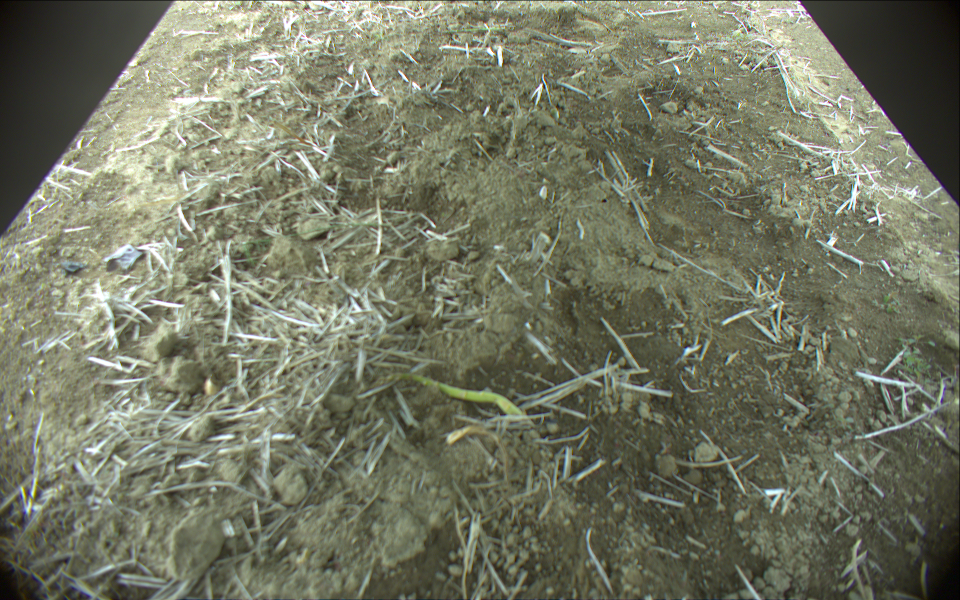aspa: (377, 372, 528, 426)
